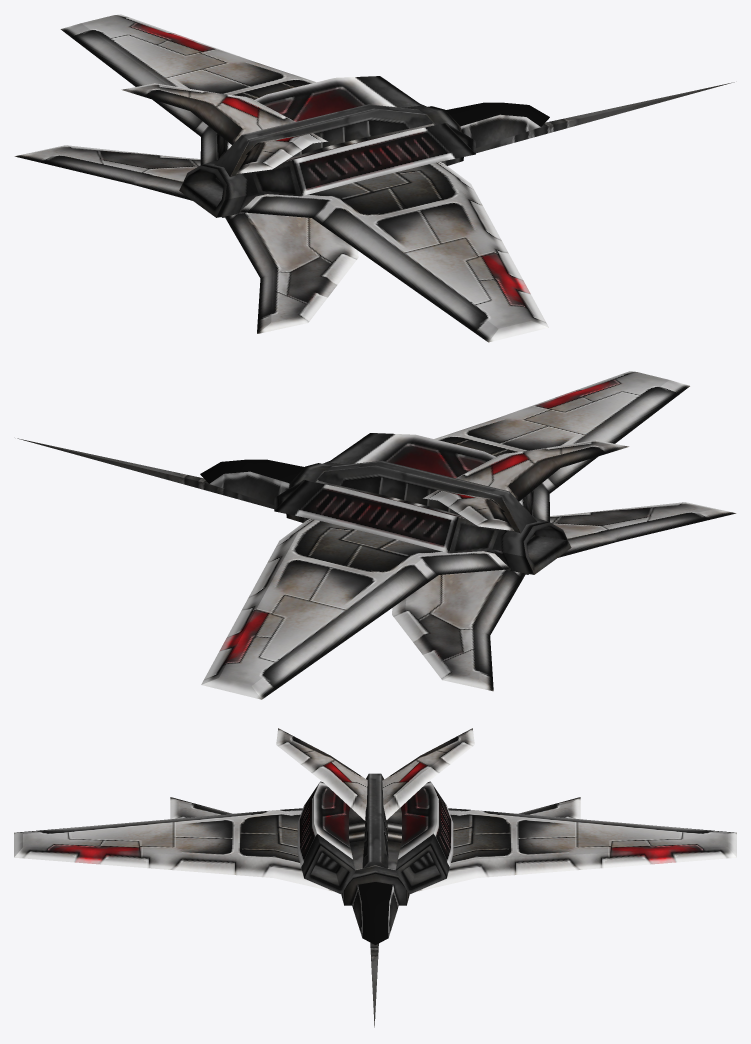
The model's file is SFX-100_Tiger.FBX.
The picture shows the model from 3 angles, top to bottom: view 1: azimuth 30°, elevation 25°; view 2: azimuth 150°, elevation 25°; view 3: azimuth 270°, elevation 25°; orthographic projection. The views are drawn at different scales.
Parts seen in each view (by area): view 1: Box05; view 2: Box05; view 3: Box05.
Part boxes in pixels (bbox=[...]): Box05: bbox=[14, 14, 734, 342]; Box05: bbox=[17, 371, 736, 699]; Box05: bbox=[14, 728, 736, 1027].
Size of the model in its own units: 44.27 by 7.53 by 54.61.
